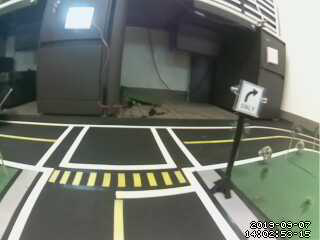Right_only_sign: (240, 80, 260, 121)
